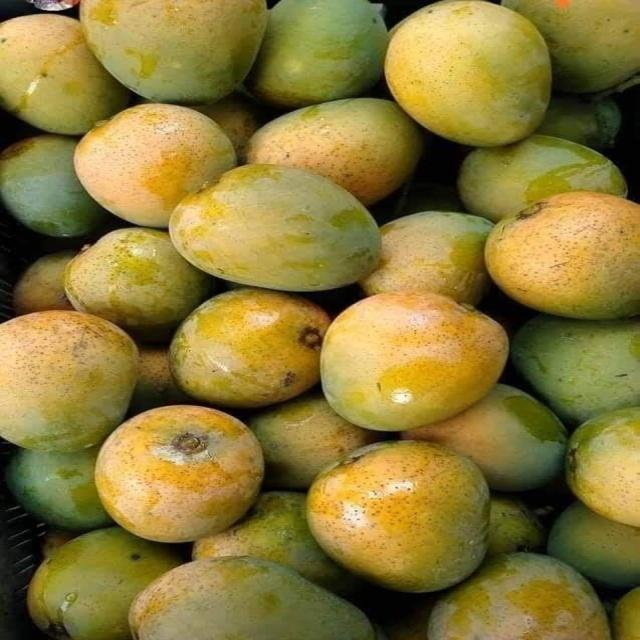mango: (308, 441, 489, 591), (170, 164, 380, 291), (321, 293, 508, 431), (385, 0, 551, 146), (96, 405, 263, 542), (130, 558, 375, 639), (75, 104, 236, 227), (486, 192, 639, 319), (81, 0, 267, 104), (0, 311, 137, 451), (170, 288, 329, 407), (248, 98, 423, 205), (401, 384, 566, 491), (28, 528, 180, 639), (193, 492, 357, 593), (65, 228, 211, 341), (428, 553, 610, 639), (0, 14, 129, 134), (248, 0, 387, 108), (459, 135, 626, 221), (512, 315, 639, 424), (248, 392, 380, 489), (503, 0, 639, 93), (360, 212, 492, 304), (0, 135, 107, 237), (567, 407, 639, 527), (6, 448, 111, 530), (547, 502, 639, 589), (191, 92, 262, 163), (537, 95, 621, 149), (13, 250, 75, 315), (130, 346, 189, 414), (488, 494, 545, 556), (379, 594, 436, 639), (612, 588, 639, 639), (41, 529, 79, 559)
